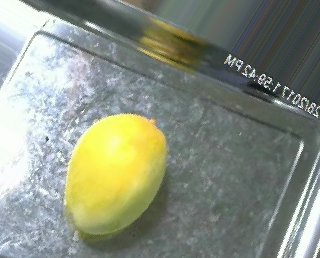Mango: (60, 107, 175, 235)
